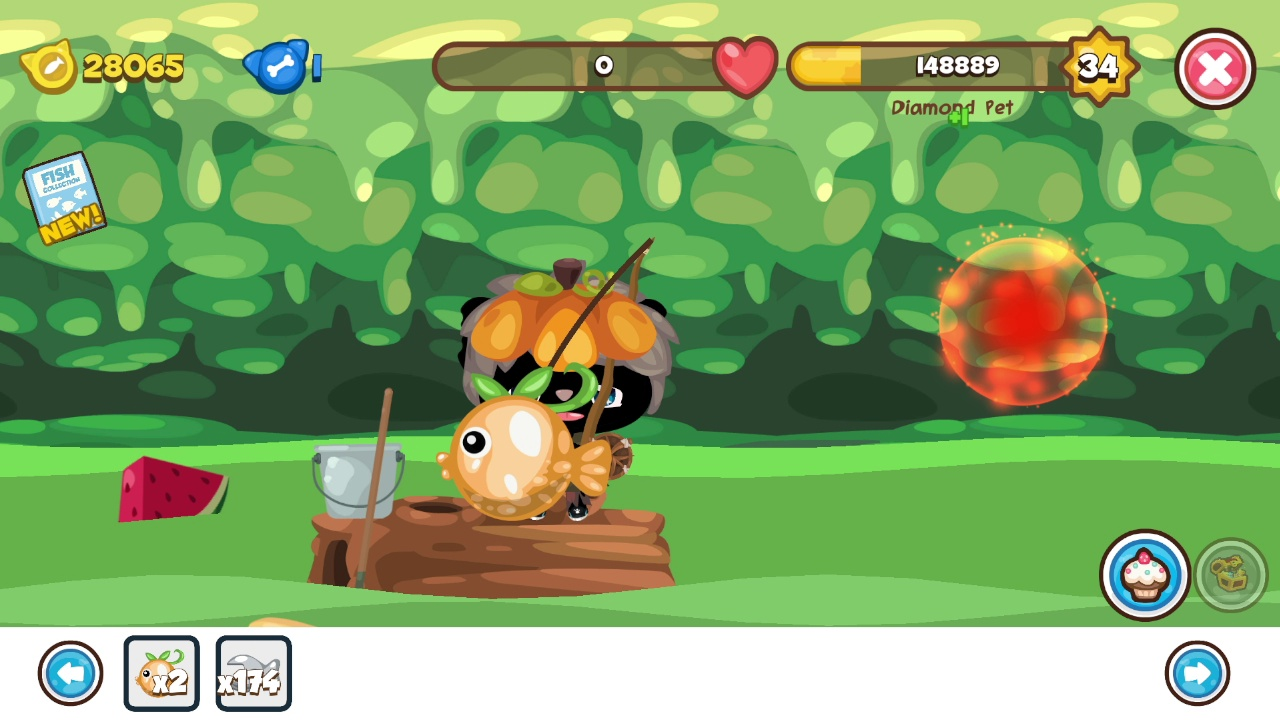point: (936, 234, 1111, 408)
